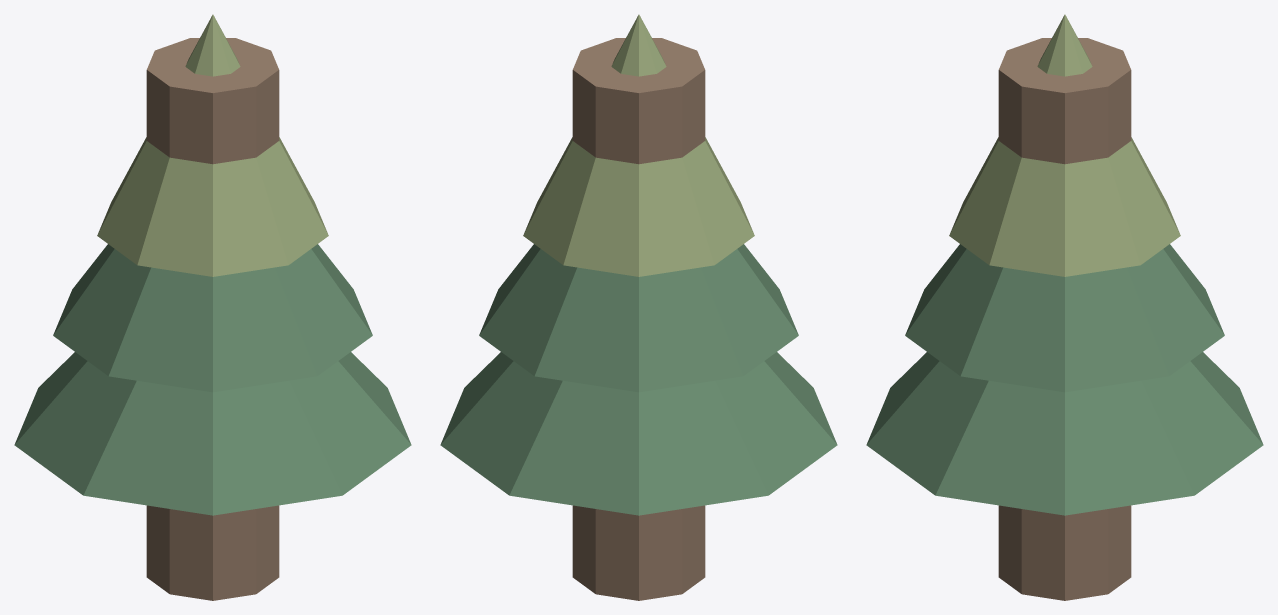
File: pino.glb
3 views of the same model, side by side, from view 1: azimuth 30°, elevation 25°; view 2: azimuth 150°, elevation 25°; view 3: azimuth 270°, elevation 25° (orthographic).
Visible parts, largest first — view 1: world; view 2: world; view 3: world.
Boxes of the visible parts, left/top/right/bottom form: world: left=14, top=14, right=411, bottom=600; world: left=440, top=14, right=837, bottom=600; world: left=866, top=14, right=1263, bottom=600.
Size of the model in its own units: 3.07 by 4.84 by 3.12.
